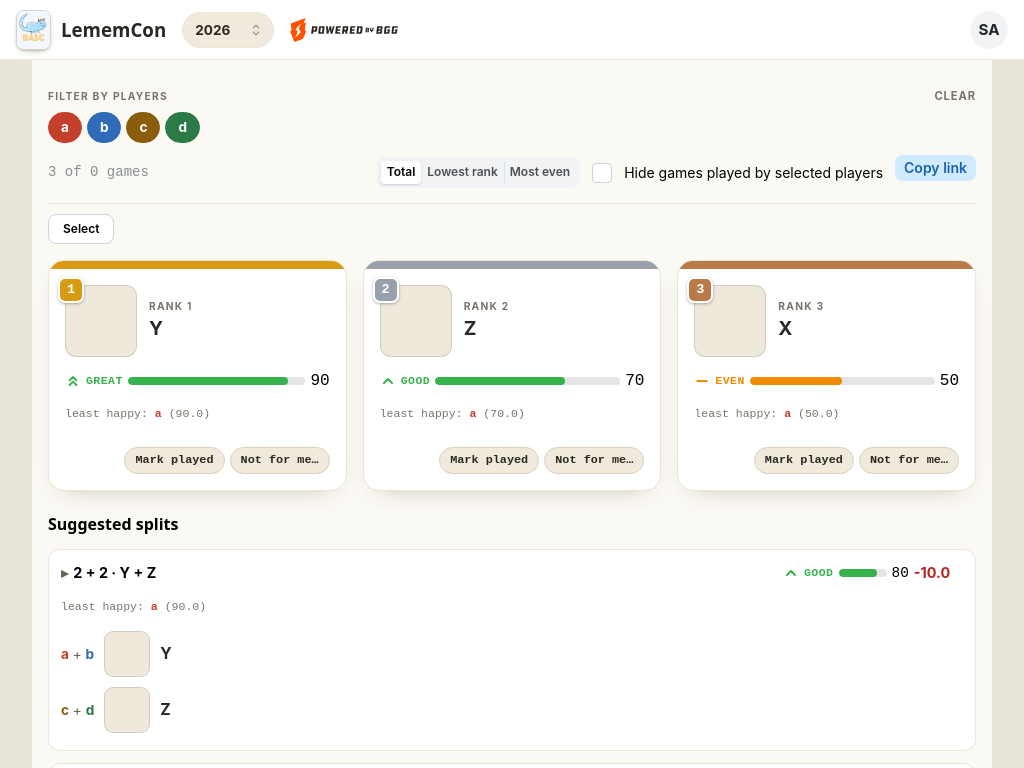
Test: Scoreboard › sort mode › reorders the list and the splits, and updates the link
The image size is (1024, 768).
Click the text "Lowest rank" at (463, 172), box [427,164,498,179]
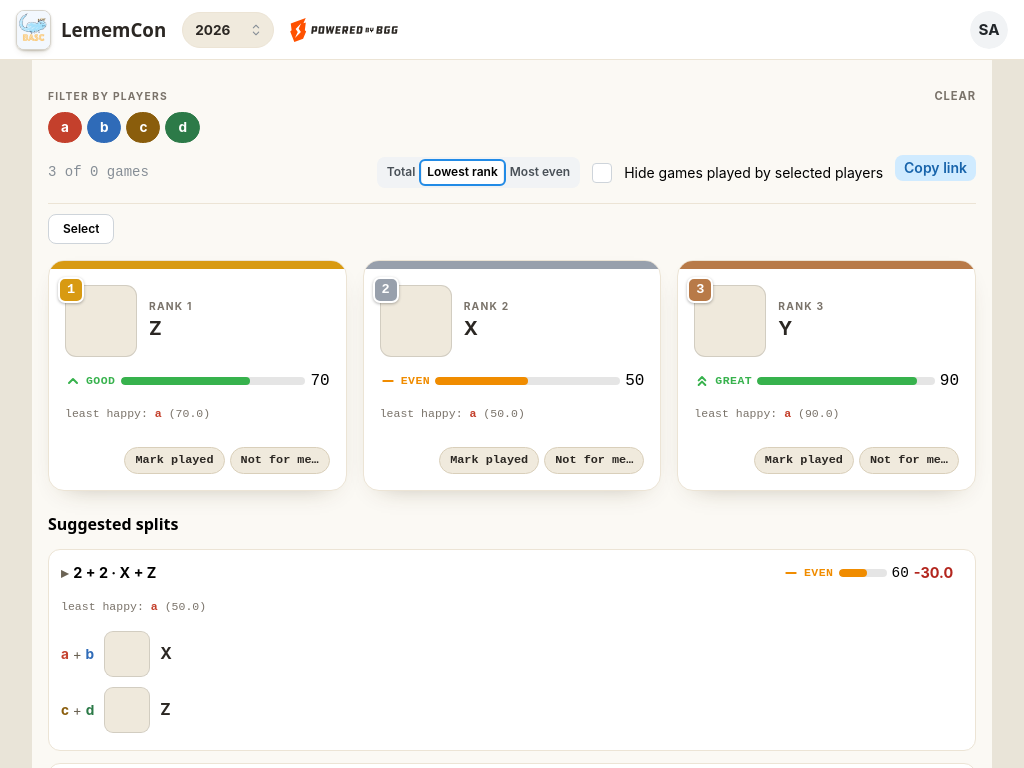
expect the element showing "▸ 2 + 2 · X + Z" is shown: met, box [61,562,156,584]
